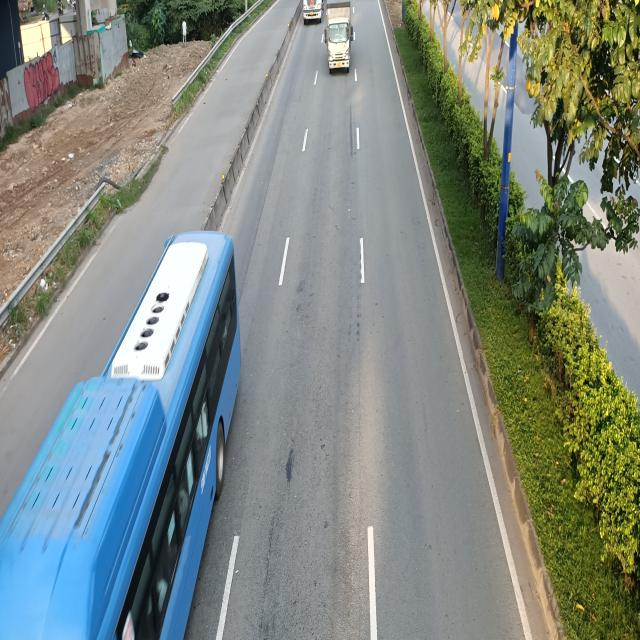coach: (0, 231, 238, 640)
truck: (325, 2, 355, 75)
